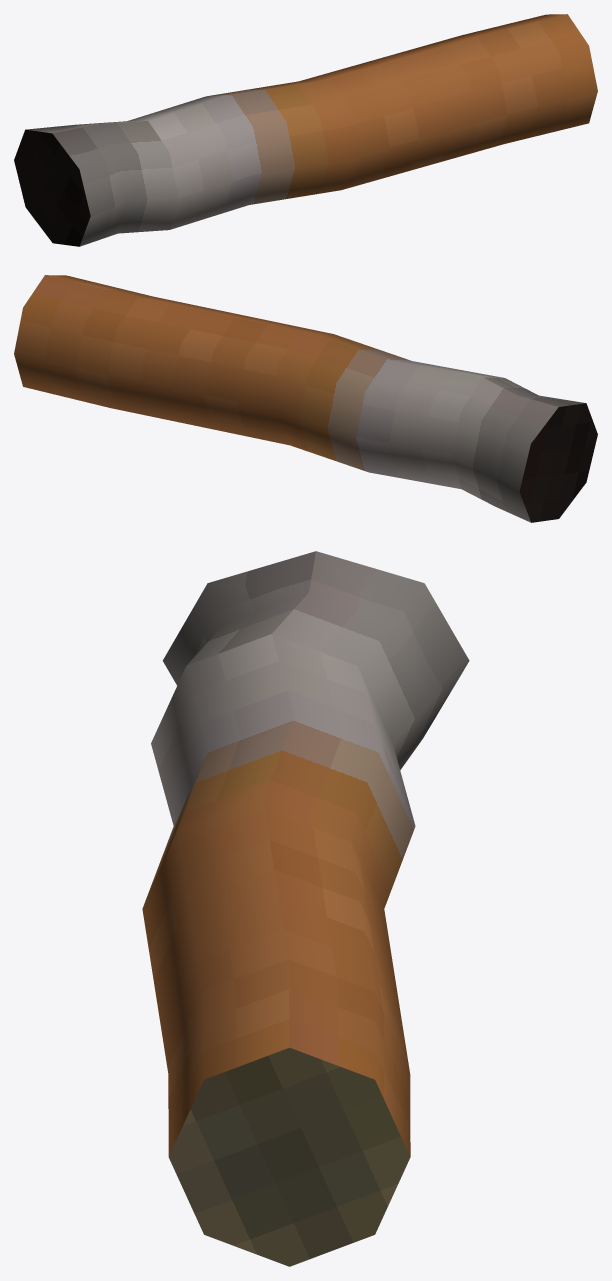
The model's file is cig_3.obj.
The picture shows the model from 3 angles, top to bottom: view 1: azimuth 30°, elevation 25°; view 2: azimuth 150°, elevation 25°; view 3: azimuth 270°, elevation 25°; orthographic projection. The views are drawn at different scales.
Parts seen in each view (by area): view 1: cig_3; view 2: cig_3; view 3: cig_3.
Boxes of the visible parts, x1,y1,x2,y2 form: cig_3: (14, 14, 597, 246); cig_3: (14, 275, 597, 522); cig_3: (142, 551, 469, 1266).
Bounding box in the file's own units: 0.0656 × 0.0135 × 0.0183.
